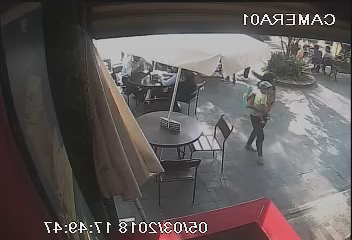libre: (128, 93, 230, 195)
ocupado: (110, 46, 201, 107)
